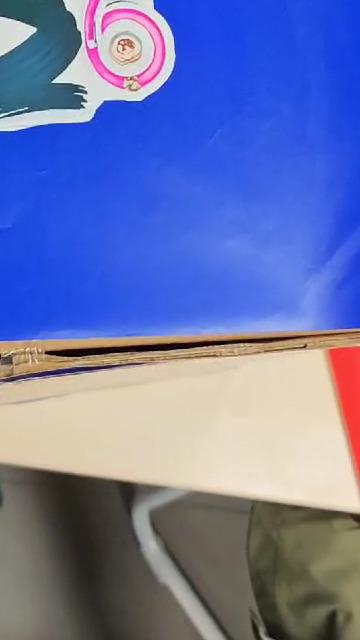B_R1: (0, 0, 319, 137)
